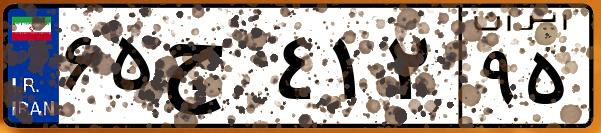1: (330, 28, 385, 110)
2: (385, 28, 445, 110)
4: (270, 28, 330, 110)
5: (525, 38, 570, 115), (110, 28, 158, 98)
6: (57, 26, 110, 100)
9: (475, 38, 525, 113)
ج: (158, 20, 270, 120)
